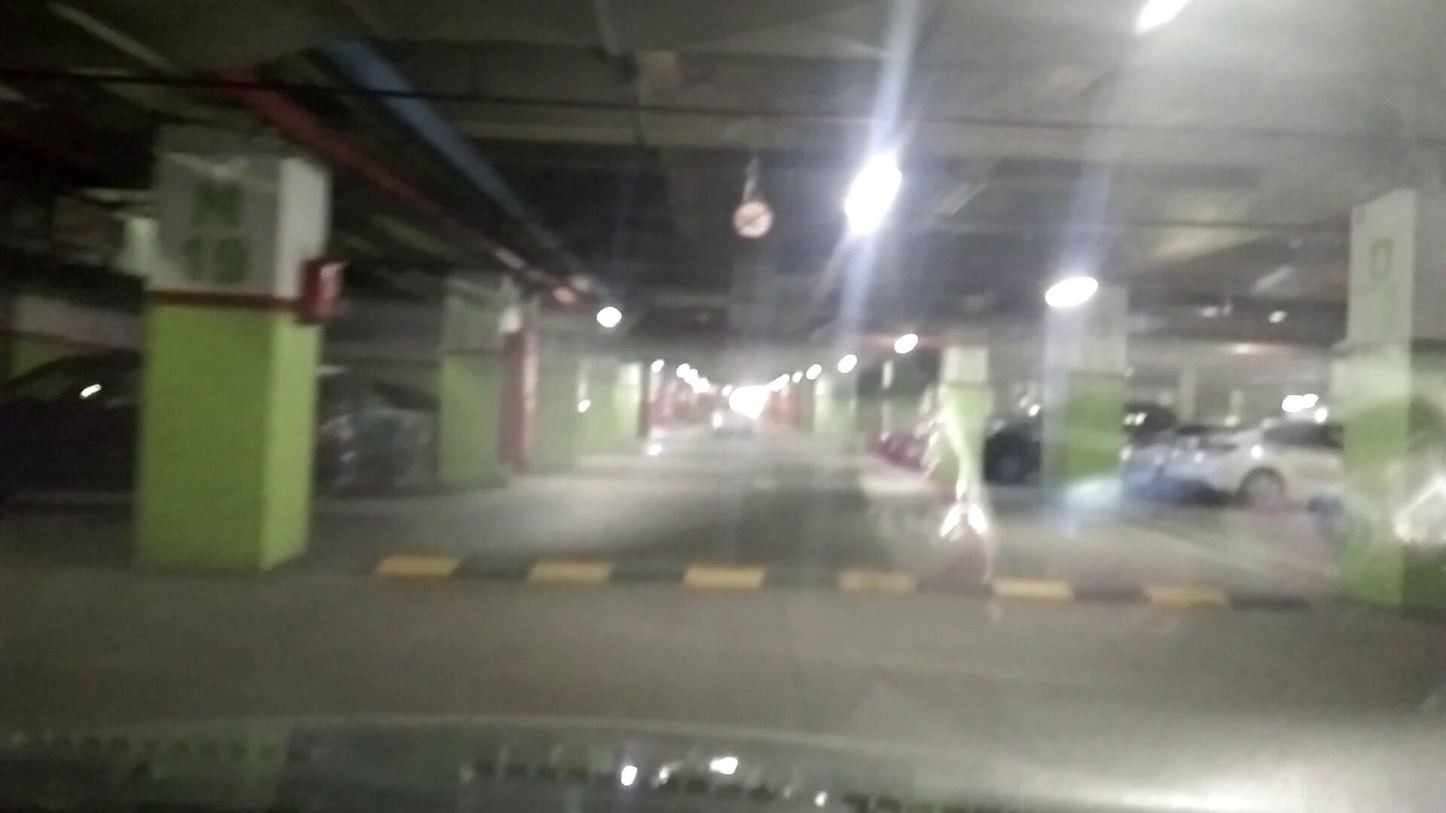Bump: (322, 534, 1397, 629)
